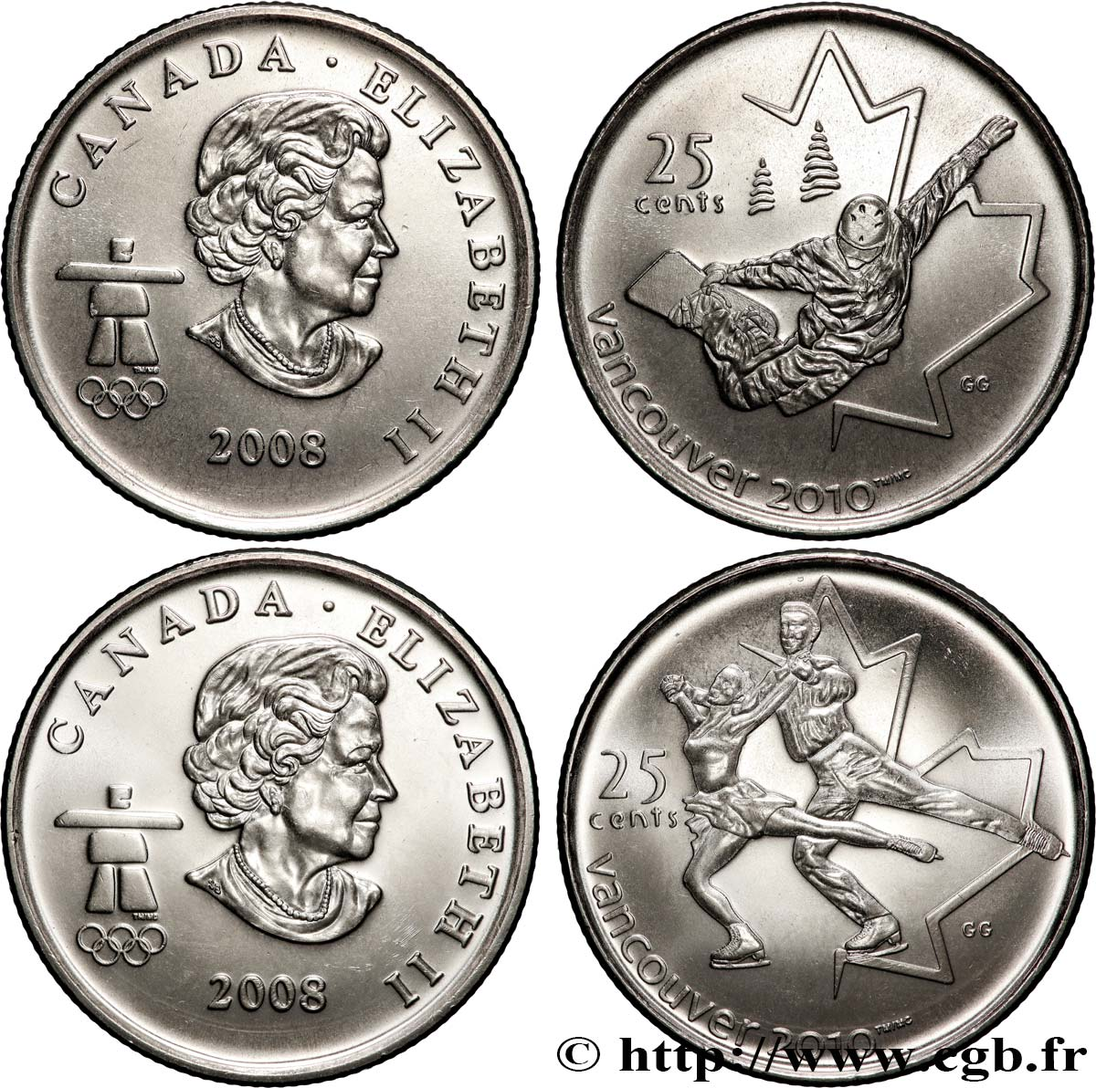coin: (4, 4, 536, 537), (559, 4, 1091, 536), (4, 551, 535, 1082), (560, 551, 1091, 1081)
